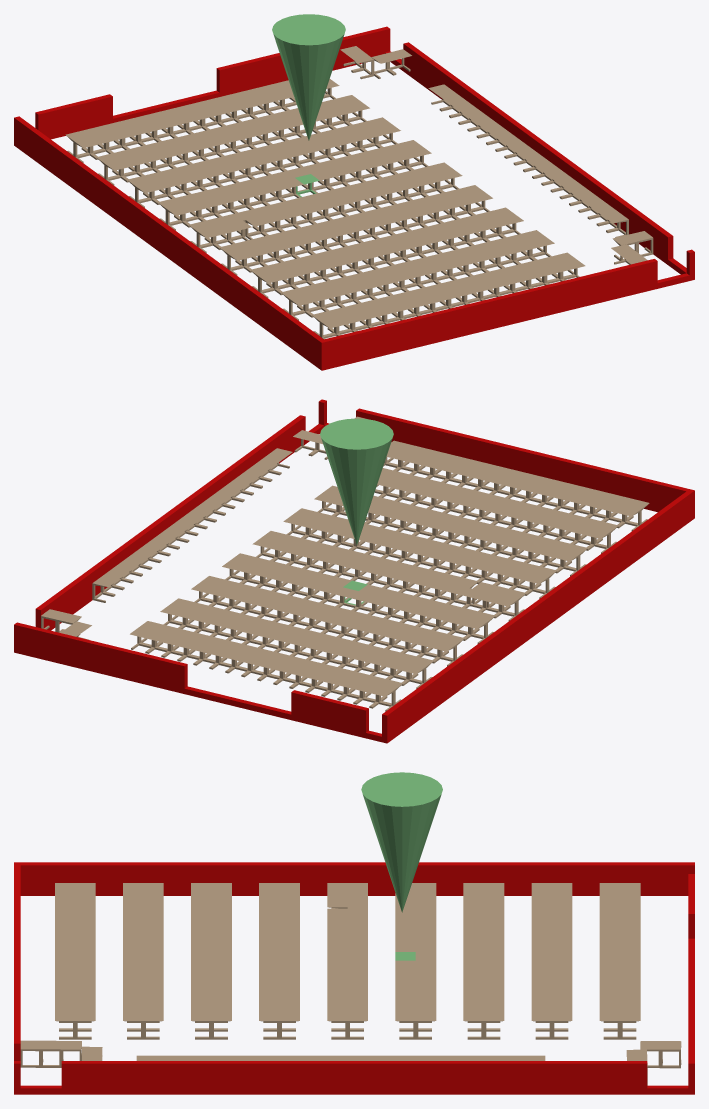
File: Boek 3.glb
3 views of the same model, one above another, from view 1: azimuth 30°, elevation 25°; view 2: azimuth 150°, elevation 25°; view 3: azimuth 270°, elevation 25° (orthographic). The views are drawn at different scales.
Parts seen in each view (by area): view 1: Mesh_Mesh_head_geo.001_lambert2SG.001; view 2: Mesh_Mesh_head_geo.001_lambert2SG.001; view 3: Mesh_Mesh_head_geo.001_lambert2SG.001.
Boxes of the visible parts, x1,y1,x2,y2 form: Mesh_Mesh_head_geo.001_lambert2SG.001: (14,14,694,370); Mesh_Mesh_head_geo.001_lambert2SG.001: (14,399,694,743); Mesh_Mesh_head_geo.001_lambert2SG.001: (14,772,694,1094).
Size of the model in its own units: 70 by 31 by 100.
